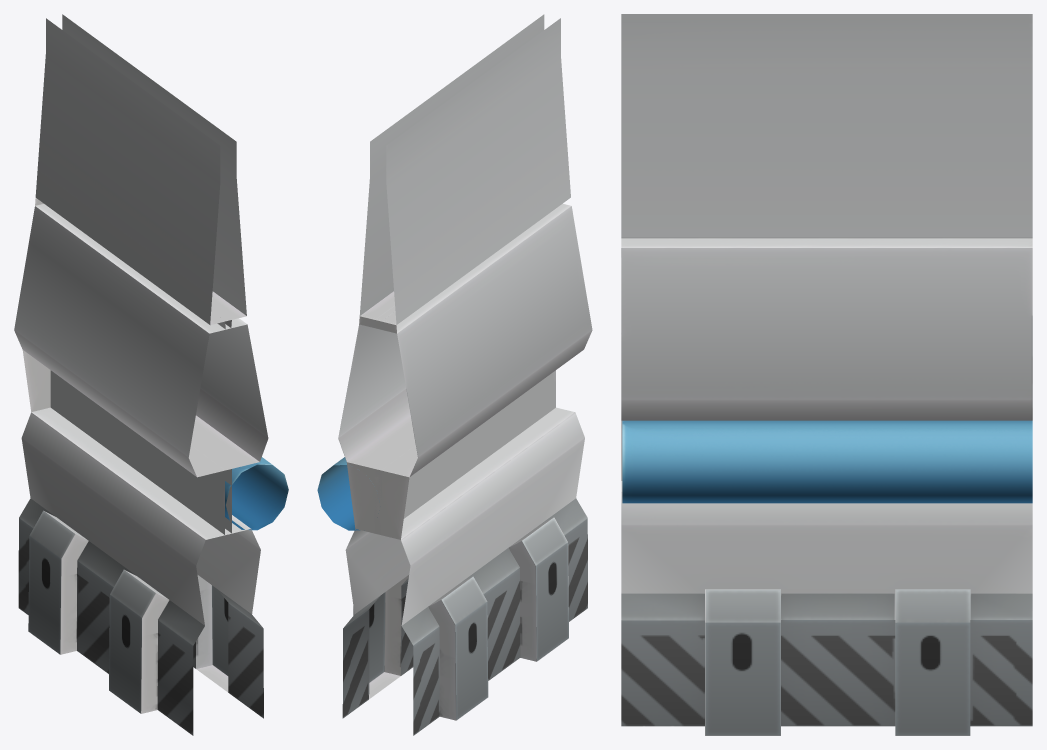
File: Wall_hospital_short.fbx
3 renders of one model, left to right at view 1: azimuth 30°, elevation 25°; view 2: azimuth 150°, elevation 25°; view 3: azimuth 270°, elevation 25°, orthographic. The views are drawn at different scales.
Visible parts, largest first — view 1: NurbsPath.001; view 2: NurbsPath.001; view 3: NurbsPath.001.
Part boxes in pixels (x1,y1,x2,y2): NurbsPath.001: [14, 14, 288, 735]; NurbsPath.001: [317, 14, 592, 735]; NurbsPath.001: [621, 14, 1032, 735].
Size of the model in its own units: 122 by 602 by 327.
1 material, 1 textured.
